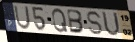5: (31, 6, 47, 33)
B: (67, 8, 86, 34)
Q: (51, 8, 69, 34)
S: (86, 10, 104, 36)
U: (101, 10, 121, 38), (13, 5, 32, 31)
